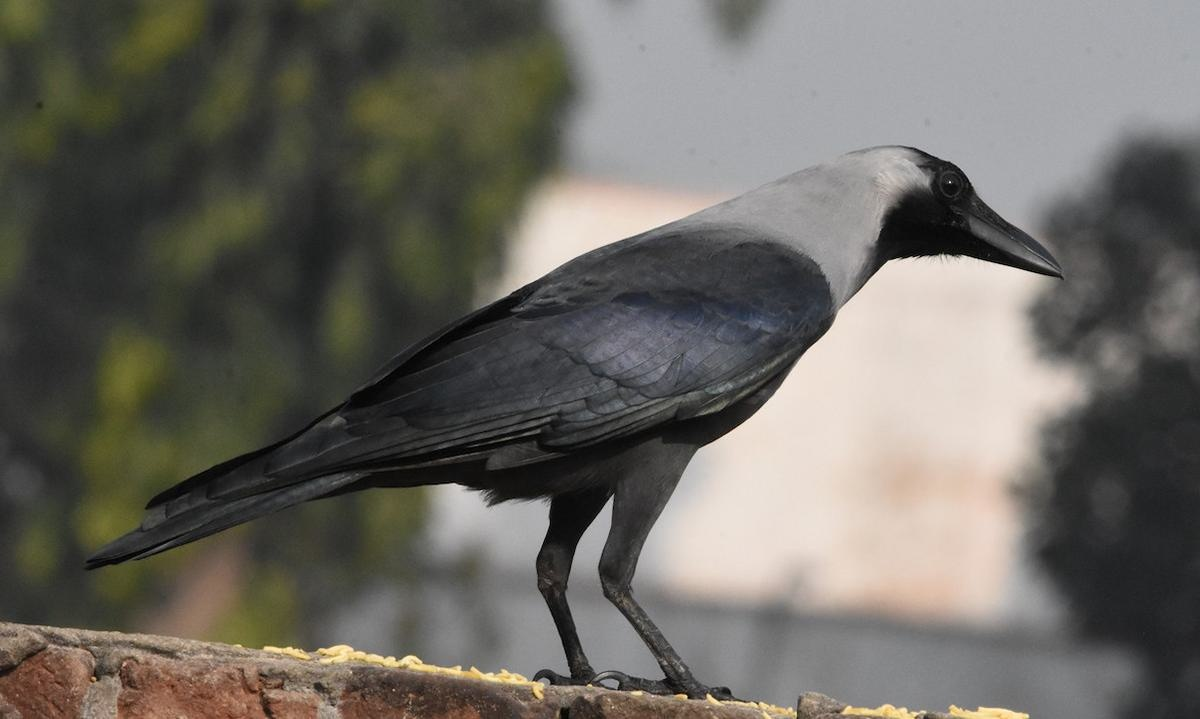crow: (138, 150, 1082, 679)
